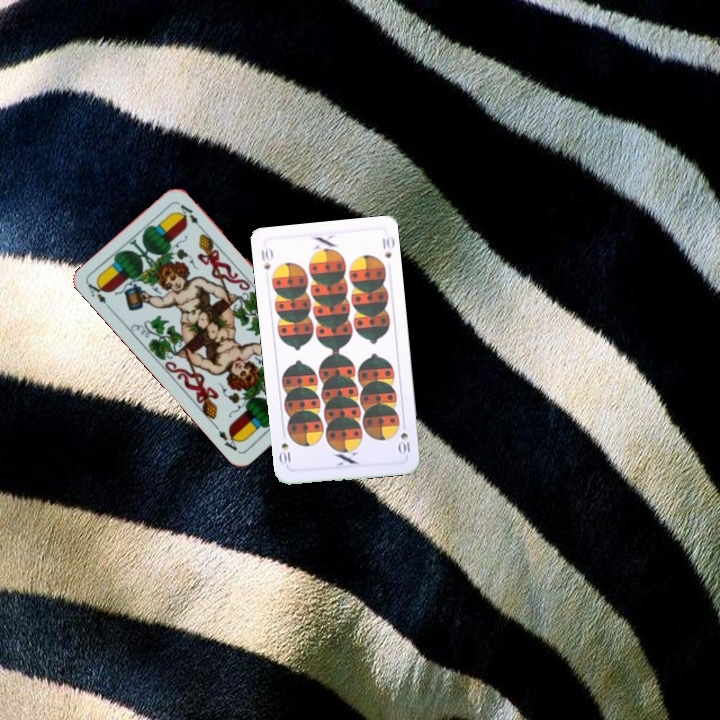EA: (84, 277, 114, 313)
S10: (395, 418, 413, 457), (257, 244, 275, 272)
